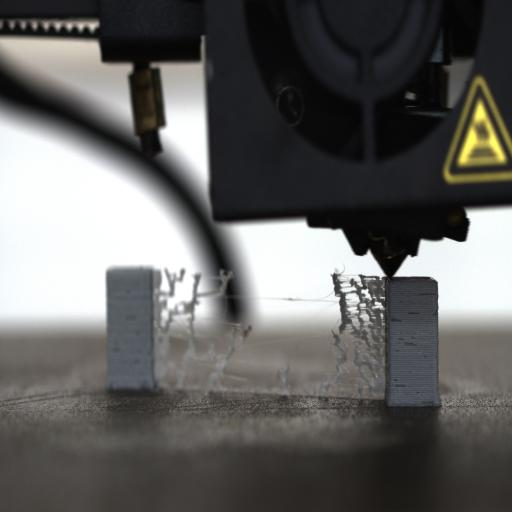stringing: (257, 264, 391, 400), (152, 266, 254, 397)
